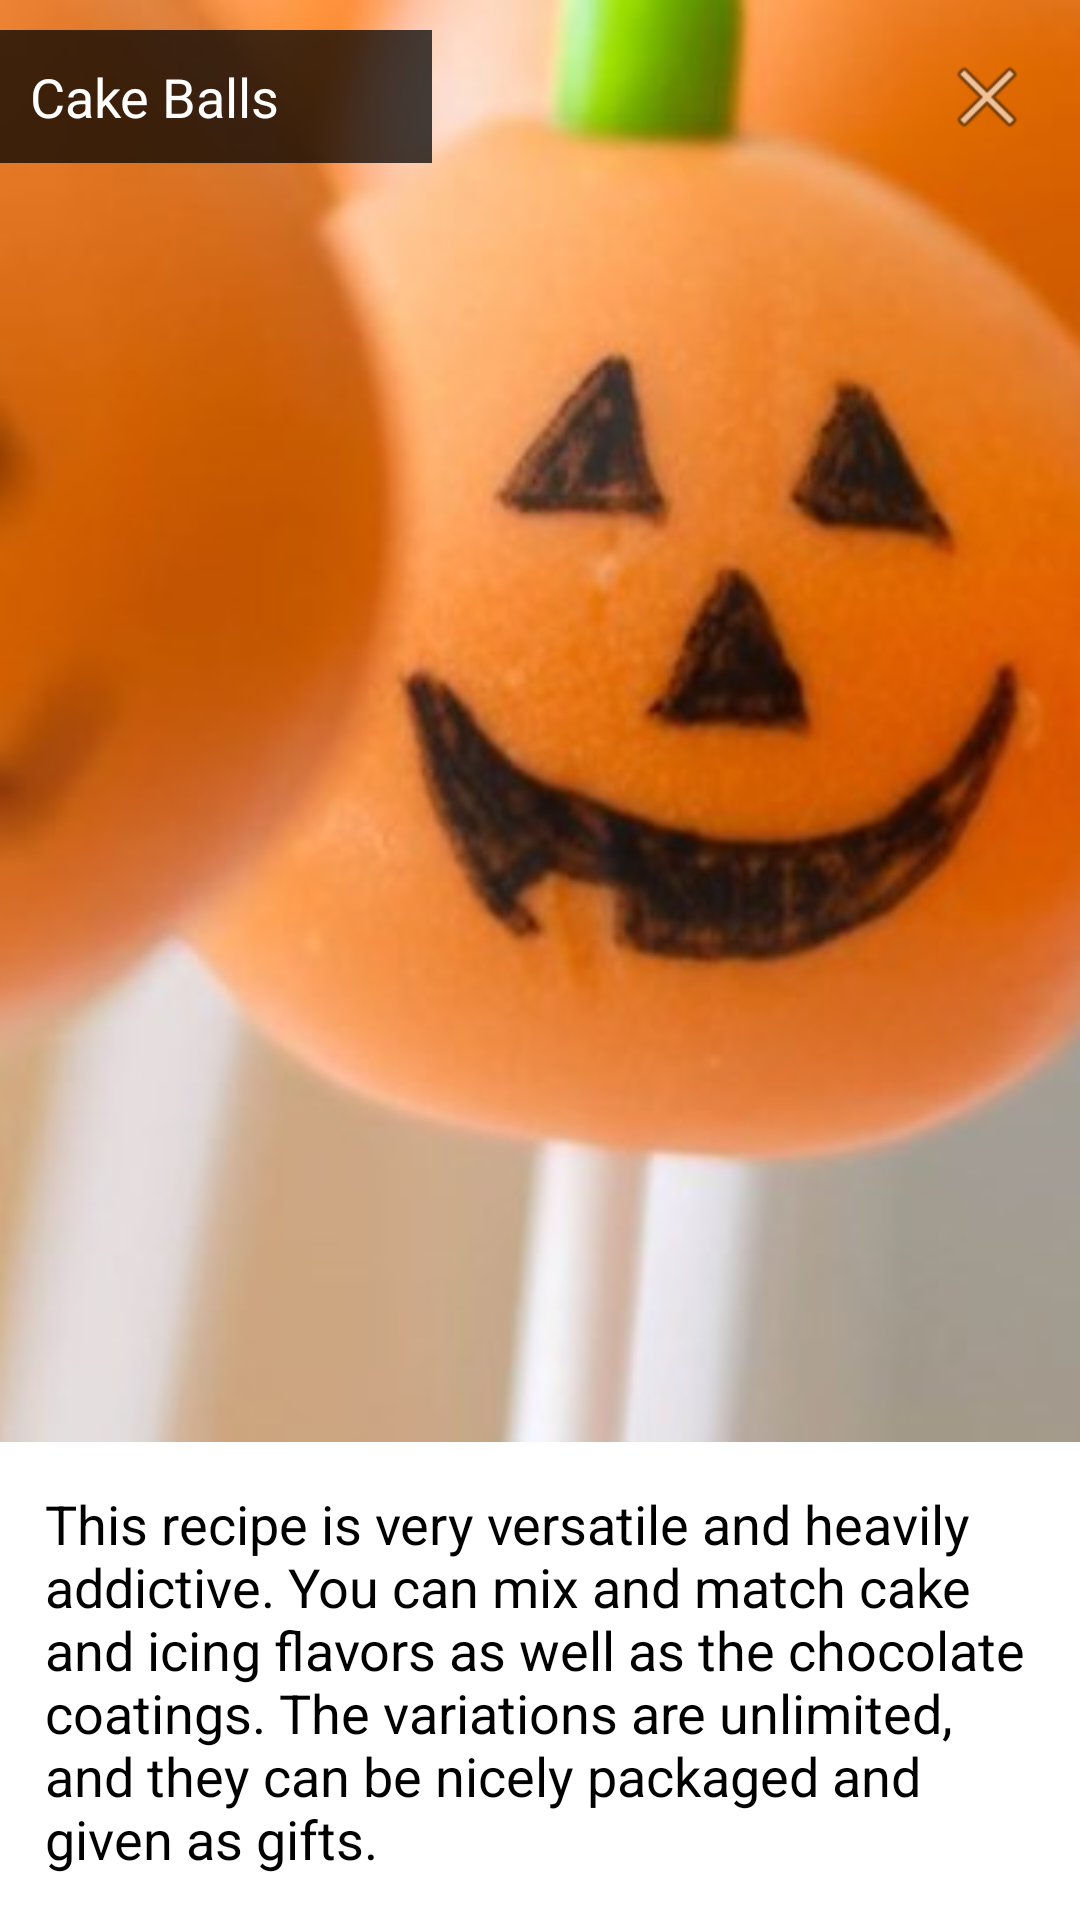

Icon bounding boxes for this 1080×1920 phone screenshot, format (left=x1, top=y1, right=x2, bottom=y2):
close clear cancel: (left=957, top=67, right=1017, bottom=127)
